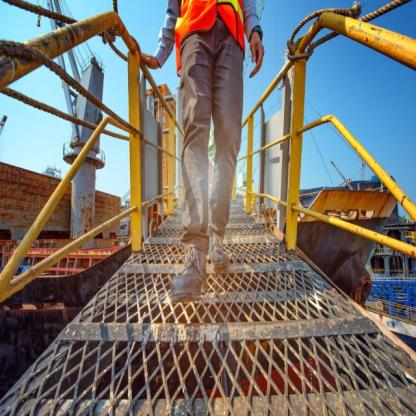bota: (166, 245, 210, 303), (208, 228, 232, 272)
